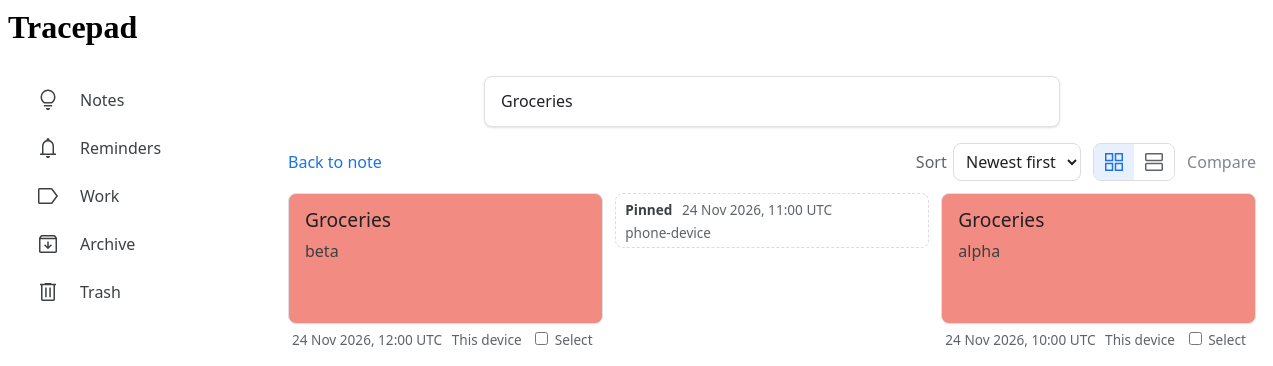
Test case: history page › side list links return to the board views
This screenshot has width=1273, height=366.
Click the button "Archive" at x=144, y=244, box [24,220,264,268]
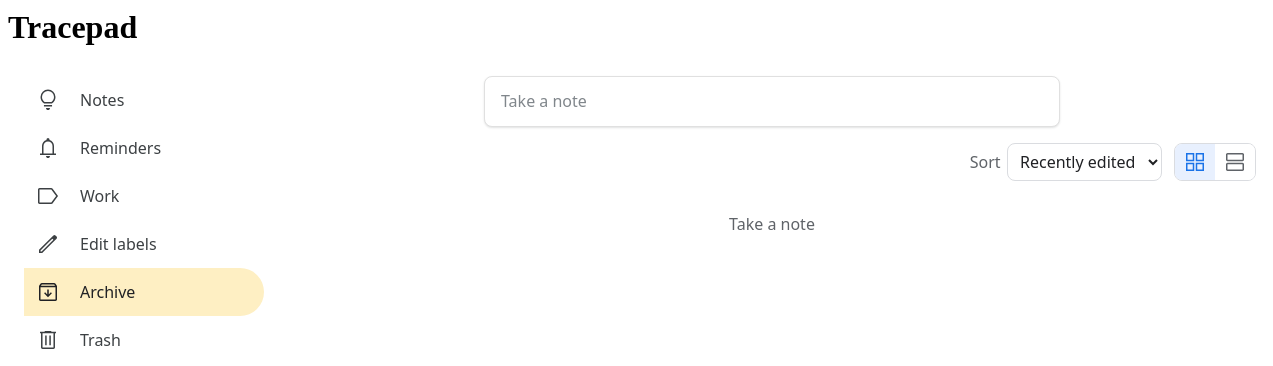
Expected: the list "History" is gone
